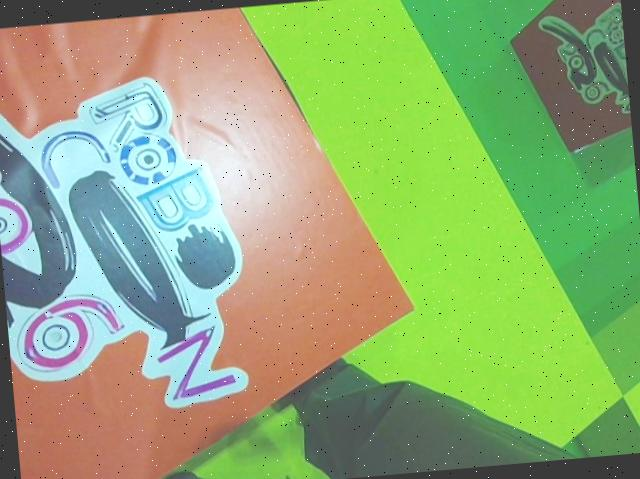R1: (0, 0, 429, 479), (503, 0, 633, 158)
